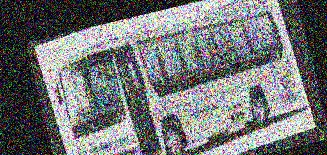bus: (41, 0, 310, 155)
